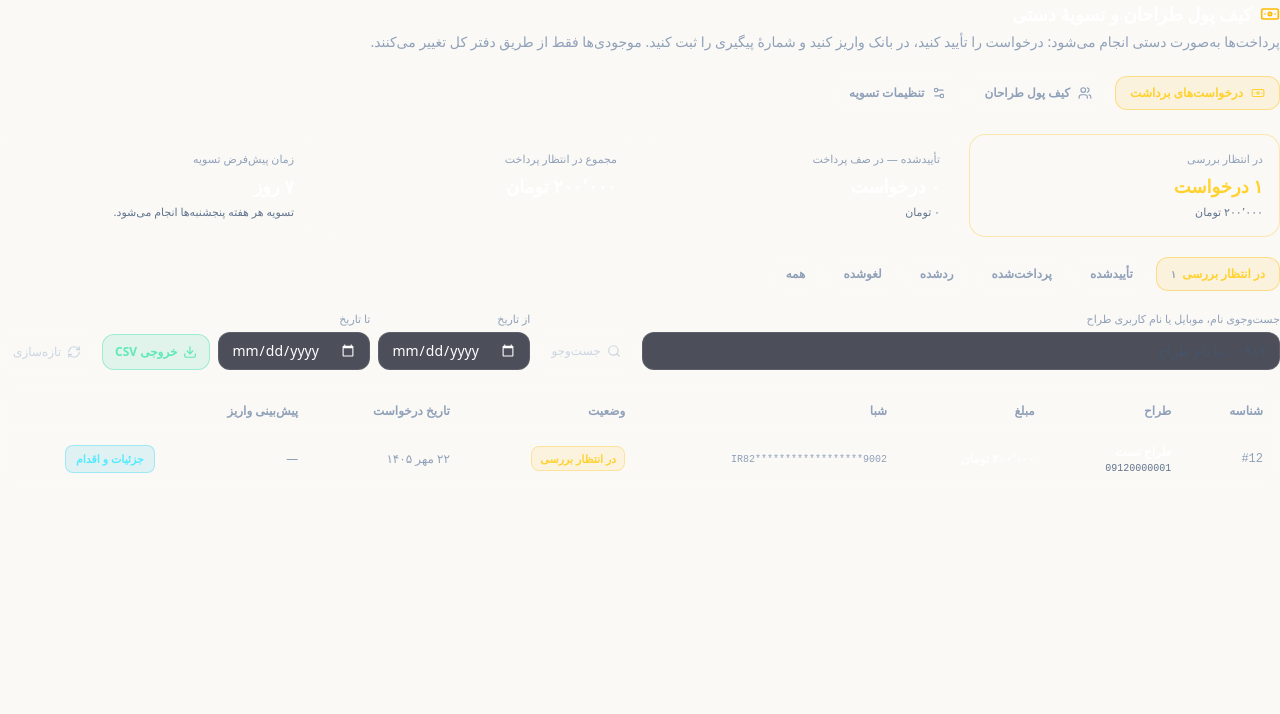
Test: AdminWalletTab — payout queue › surfaces a concurrent change by another admin and reloads the live row
This screenshot has width=1280, height=714.
Click the button "جزئیات و اقدام" at (110, 459), box [65,445,155,474]
(page scrolled)
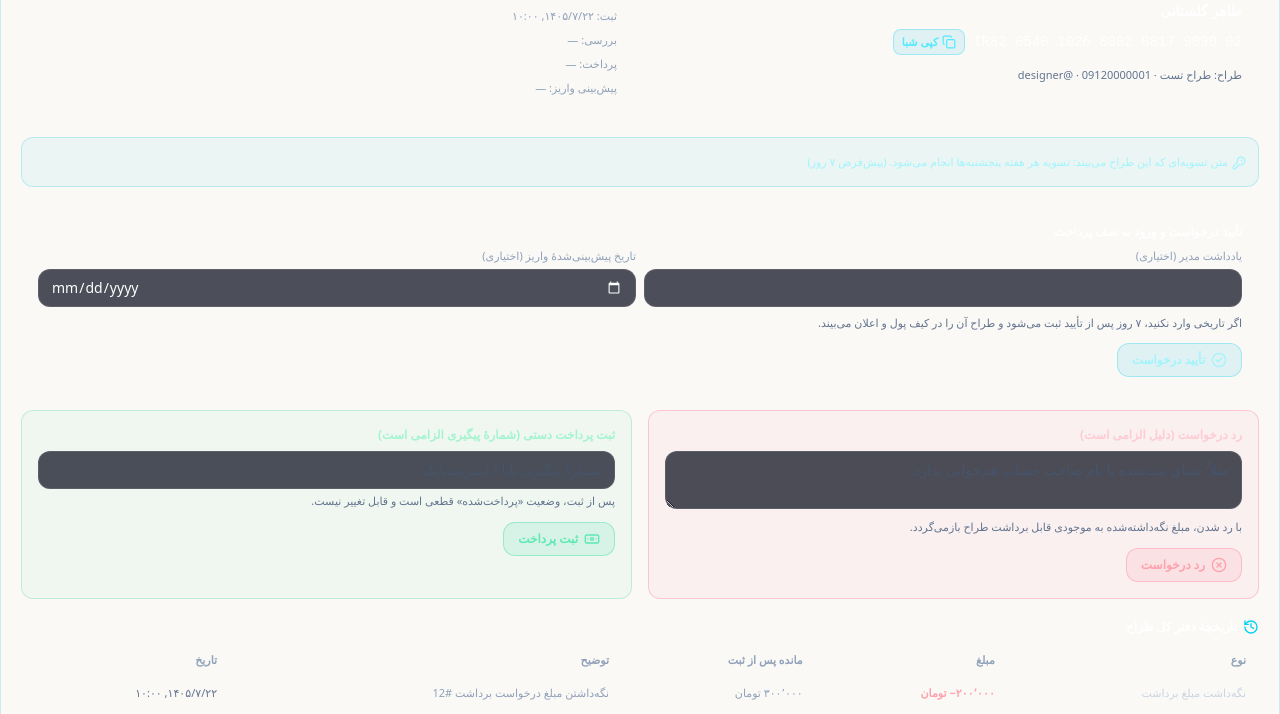
Click the button "تأیید درخواست" at (1179, 360), box [1117,343,1242,377]
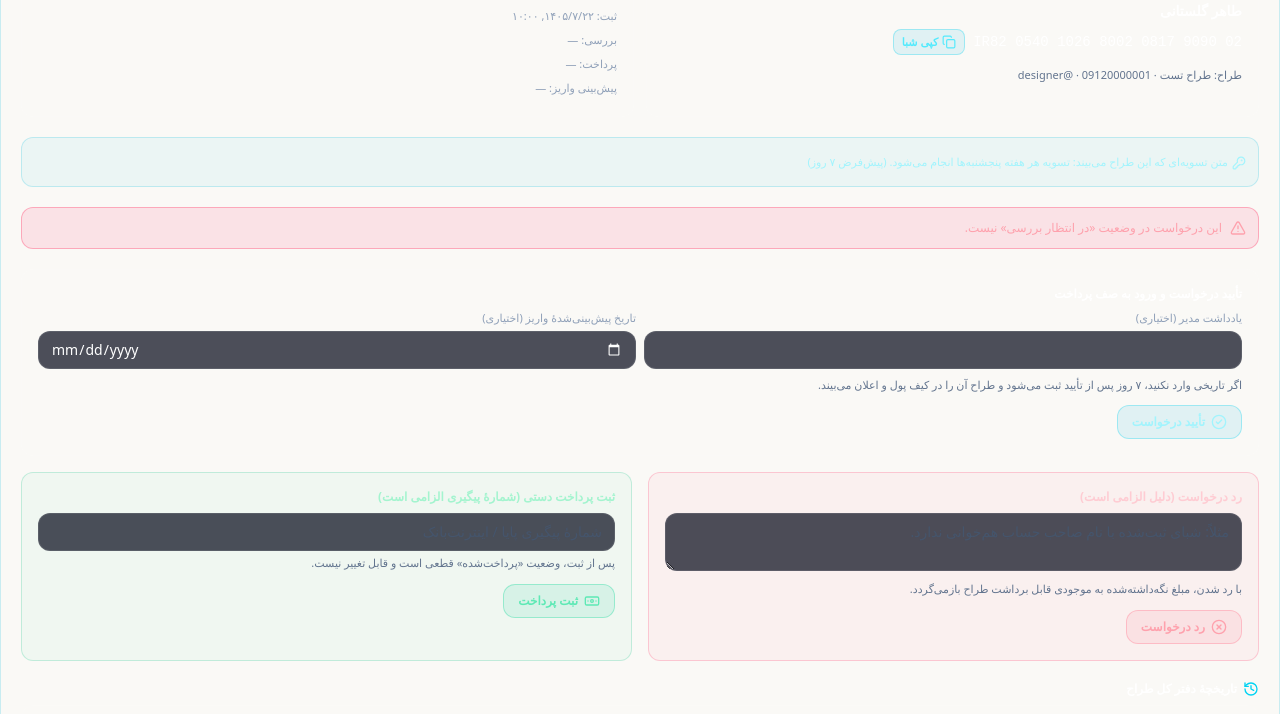
Now the message shows "در انتظار بررسی» نیست", box [965,219,1222,236]
